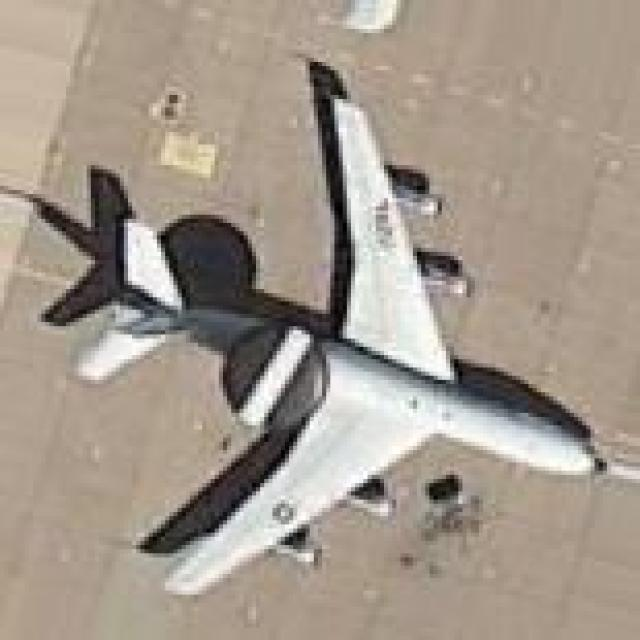E-3_TopDown: (33, 60, 614, 595)
